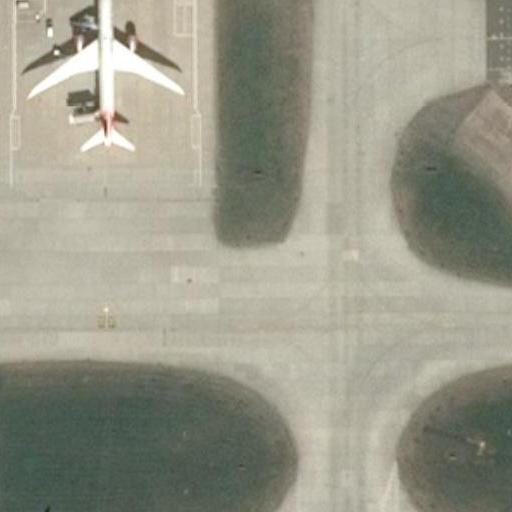Aircraft: (21, 0, 192, 159)
